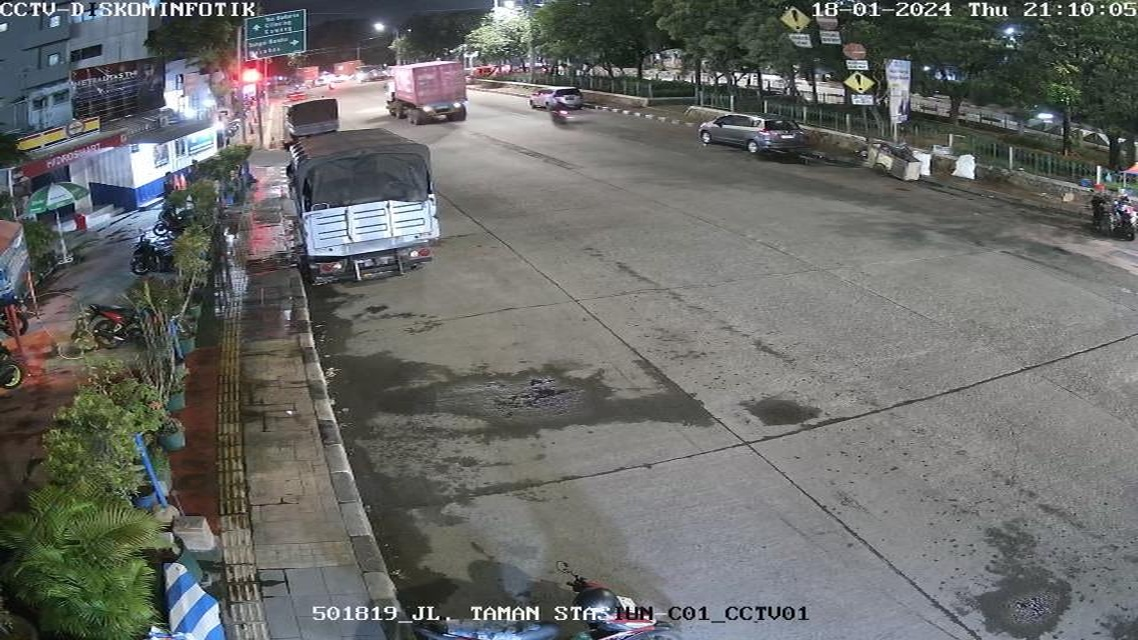Gerobak: (845, 133, 934, 183)
